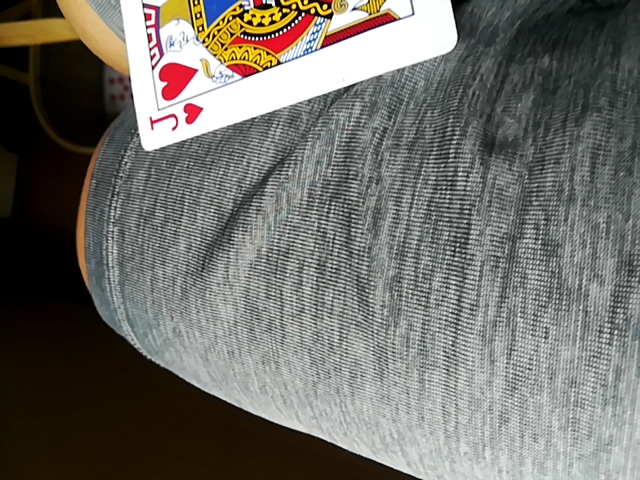hx j: (103, 1, 457, 147)
